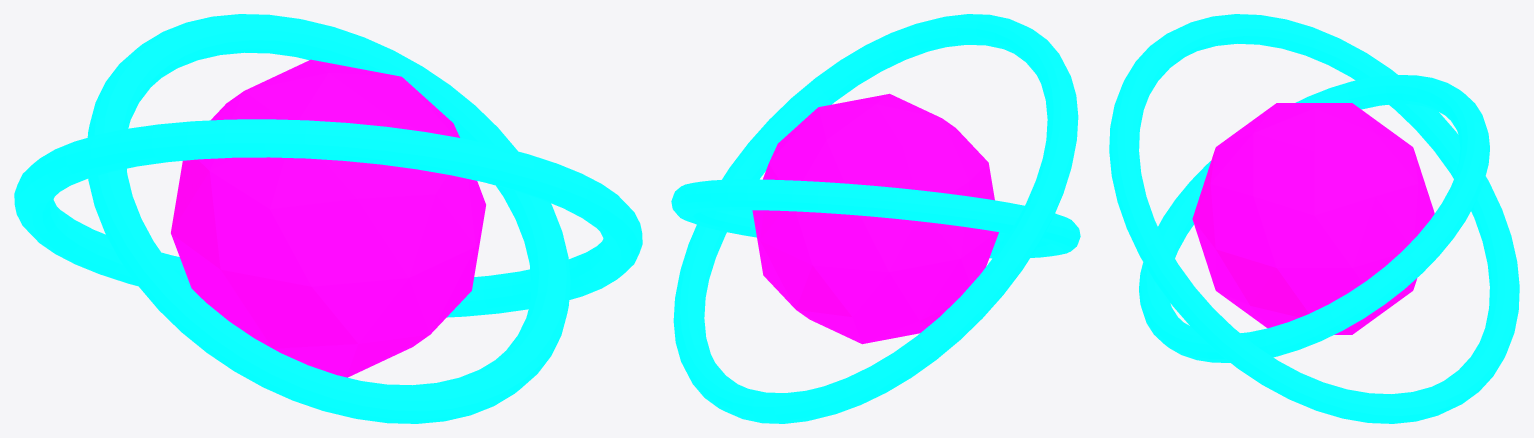
The model's file is boss_core.glb.
3 views of the same model, side by side, from view 1: azimuth 30°, elevation 25°; view 2: azimuth 150°, elevation 25°; view 3: azimuth 270°, elevation 25° (orthographic). The views are drawn at different scales.
Visible parts, largest first — view 1: Icosphere, Torus, Torus.001; view 2: Icosphere, Torus.001, Torus; view 3: Icosphere, Torus.001, Torus.
Boxes of the visible parts, x1,y1,x2,y2 form: Icosphere: (171, 59, 485, 377); Torus: (87, 14, 570, 423); Torus.001: (14, 119, 642, 317); Icosphere: (752, 93, 998, 344); Torus.001: (673, 14, 1078, 423); Torus: (671, 179, 1080, 258); Icosphere: (1192, 103, 1434, 334); Torus.001: (1109, 14, 1519, 423); Torus: (1139, 75, 1489, 362).
Bounding box in the file's own units: 6.53 × 4.72 × 6.05.
